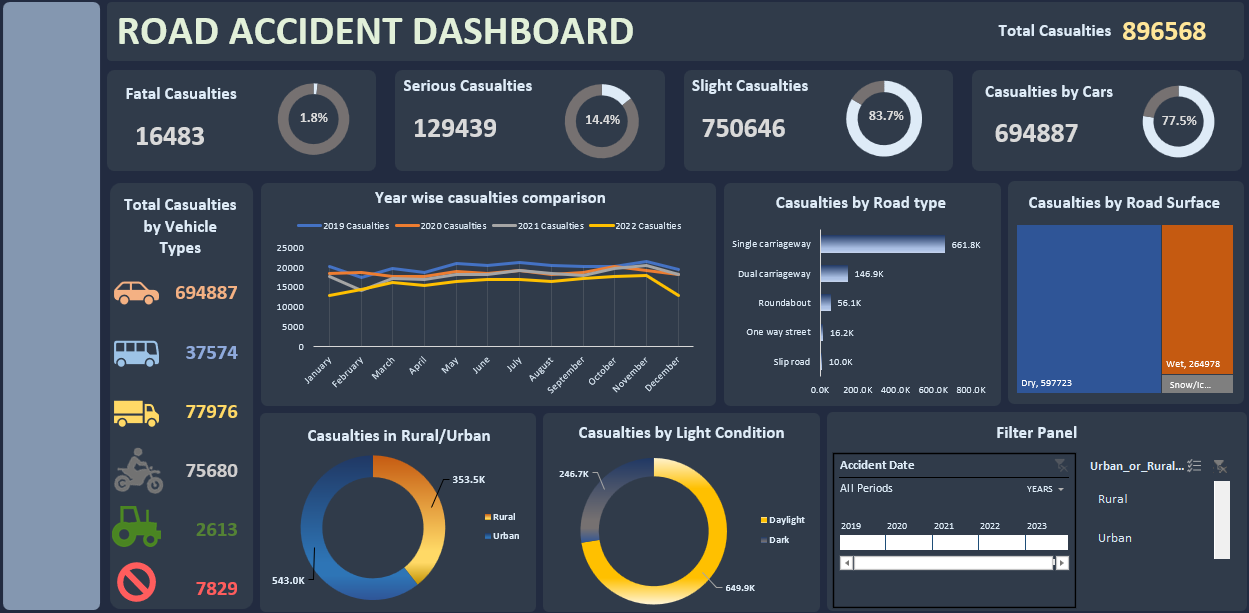

What the dashboard file says about the page in this screenshot:
{"tool":"tableau","page":{"name":"Dashboard 1","canvas":[1600,900],"ordinal":0},"visuals":[{"type":"image","param":"C:/Users/manga/OneDrive/Desktop/IE/Data Analytics/Background.jpg","box":[8,8,1584,884]},{"type":"text","box":[46,31,669,77]},{"type":"parameter","param":"[Parameters].[Parameter 1]","box":[1041,46,160,48]},{"type":"parameter","param":"[Parameters].[current year (copy)_692709960970489857]","box":[1212,46,160,48]},{"type":"parameter","param":"[Parameters].[Parameter 2]","box":[1382,47,160,48]},{"type":"text","box":[40,132,459,30]},{"type":"worksheet","title":"total accidents graph","mark":"Automatic","rows":["current year accidents (copy)_692709960971542531","Calculation_692709960970674178"],"cols":["Accident Date"],"box":[1141,139,205,110]},{"type":"worksheet","title":"total accidents","mark":"Automatic","box":[1346,139,205,110]},{"type":"worksheet","title":"vehicle type images","mark":"Shape","box":[50,158,1050,41]},{"type":"worksheet","title":"vehicle type kpi","mark":"Automatic","box":[50,199,1050,59]},{"type":"worksheet","title":"Weather condition","mark":"Pie","rows":["Calculation_868913303859642388"],"box":[467,283,308,285]},{"type":"worksheet","title":"by location","mark":"Automatic","rows":["Latitude"],"cols":["Longitude"],"box":[41,284,404,581]},{"type":"worksheet","title":"road surface","mark":"Pie","rows":["Calculation_868913303859642388"],"box":[797,285,314,279]},{"type":"worksheet","title":"total casualties graph","mark":"Automatic","rows":["current year casualties (copy)_868913303793242113","Calculation_868913303792517120"],"cols":["Accident Date"],"box":[1142,292,205,110]},{"type":"worksheet","title":"total casualties","mark":"Automatic","box":[1347,292,205,110]},{"type":"worksheet","title":"fatal casualties graph","mark":"Automatic","rows":["current year fatal casualties (copy)_868913303795953668","Calculation_868913303794716675"],"cols":["Accident Date"],"box":[1141,445,205,110]},{"type":"worksheet","title":"fatal casualties","mark":"Automatic","box":[1346,445,205,110]},{"type":"worksheet","title":"casualties due to road type","mark":"Automatic","rows":["Road_Type"],"cols":["Calculation_868913303792517120"],"box":[467,588,646,279]},{"type":"worksheet","title":"serious casualties graph","mark":"Automatic","rows":["previous year fatal casualties (copy)_868913303797309447","current year fatal casualties (copy)_868913303797002246"],"cols":["Accident Date"],"box":[1139,594,205,110]},{"type":"worksheet","title":"serious casualties","mark":"Automatic","box":[1344,594,205,110]},{"type":"worksheet","title":"slight casualties graph","mark":"Automatic","rows":["previous year serious casualties (copy)_868913303798059017","current year serious casualties (copy)_868913303798214666"],"cols":["Accident Date"],"box":[1141,745,205,110]},{"type":"worksheet","title":"slight casualties","mark":"Automatic","box":[1346,745,205,110]}]}

Visuals, with their boxes on the page's 1600x900 design canvas (x1, y1, x2, y2). These are canvas units, not pixel positions in the 1249x613 screenshot, which may show the page scaled, cropped or inside an application window:
image: <box>8,8,1592,892</box>
text: <box>46,31,715,108</box>
parameter: <box>1041,46,1201,94</box>
parameter: <box>1212,46,1372,94</box>
parameter: <box>1382,47,1542,95</box>
text: <box>40,132,499,162</box>
"total accidents graph" worksheet: <box>1141,139,1346,249</box>
"total accidents" worksheet: <box>1346,139,1551,249</box>
"vehicle type images" worksheet (Shape marks): <box>50,158,1100,199</box>
"vehicle type kpi" worksheet: <box>50,199,1100,258</box>
"Weather condition" worksheet (Pie marks): <box>467,283,775,568</box>
"by location" worksheet: <box>41,284,445,865</box>
"road surface" worksheet (Pie marks): <box>797,285,1111,564</box>
"total casualties graph" worksheet: <box>1142,292,1347,402</box>
"total casualties" worksheet: <box>1347,292,1552,402</box>
"fatal casualties graph" worksheet: <box>1141,445,1346,555</box>
"fatal casualties" worksheet: <box>1346,445,1551,555</box>
"casualties due to road type" worksheet: <box>467,588,1113,867</box>
"serious casualties graph" worksheet: <box>1139,594,1344,704</box>
"serious casualties" worksheet: <box>1344,594,1549,704</box>
"slight casualties graph" worksheet: <box>1141,745,1346,855</box>
"slight casualties" worksheet: <box>1346,745,1551,855</box>
